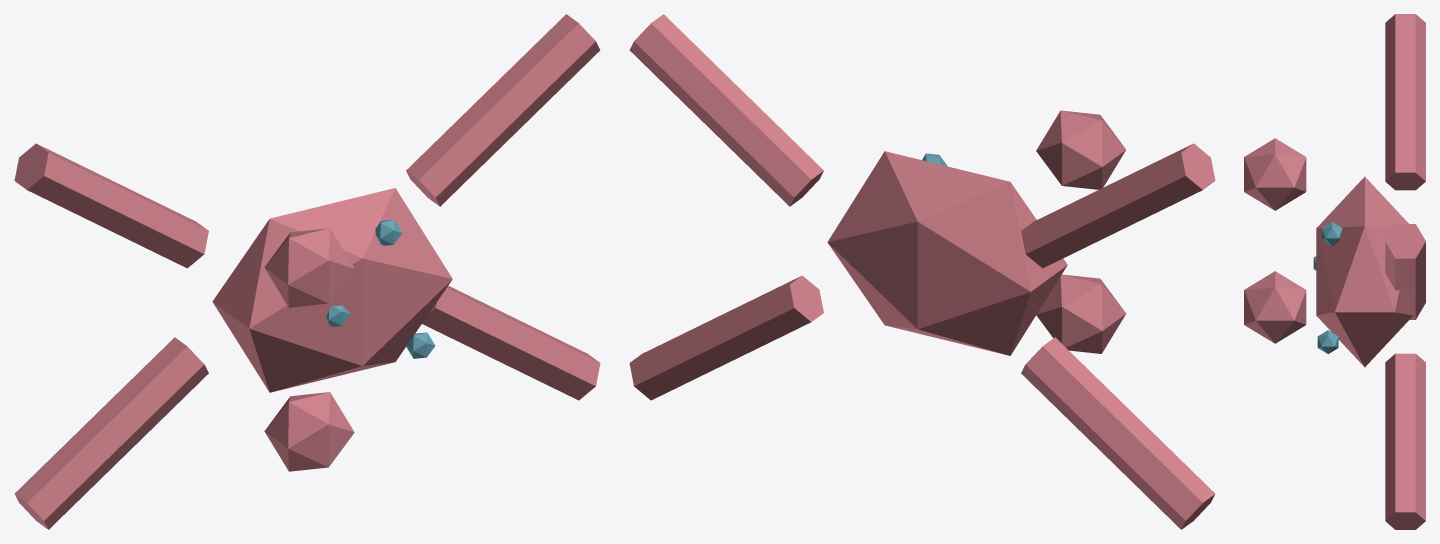
Rendered from poison_dart_frog.glb.
The picture shows the model from 3 angles, left to right: view 1: azimuth 30°, elevation 25°; view 2: azimuth 150°, elevation 25°; view 3: azimuth 270°, elevation 25°; orthographic projection. The views are drawn at different scales.
Parts seen in each view (by area): view 1: world; view 2: world; view 3: world.
Boxes of the visible parts, x1,y1,x2,y2 form: world: (14,14,600,529); world: (629,14,1215,529); world: (1244,14,1425,529).
Bounding box in the file's own units: 1.32 × 0.8291 × 0.4466.
